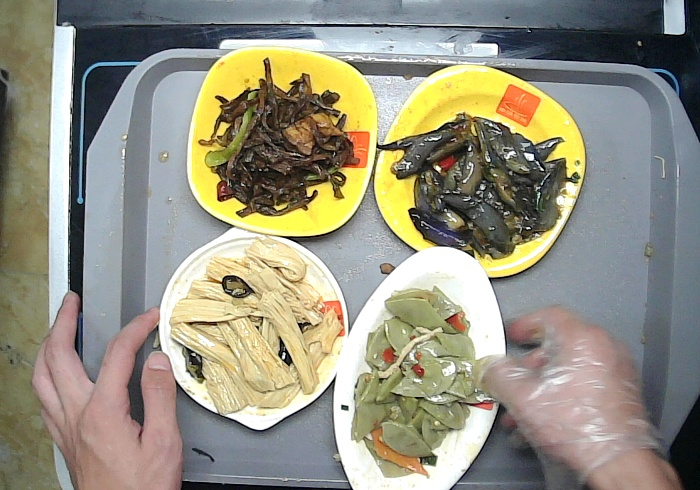SHKJ-Bao_Yu_Pan: (156, 221, 353, 437)
SHKJ-Huang_Se_Cai_Die: (183, 45, 378, 240)
SHKJ-Huang_Se_Si_Fang_Cai_Die: (370, 61, 590, 282)
SHKJ-Yu_Pan: (331, 243, 512, 490)
